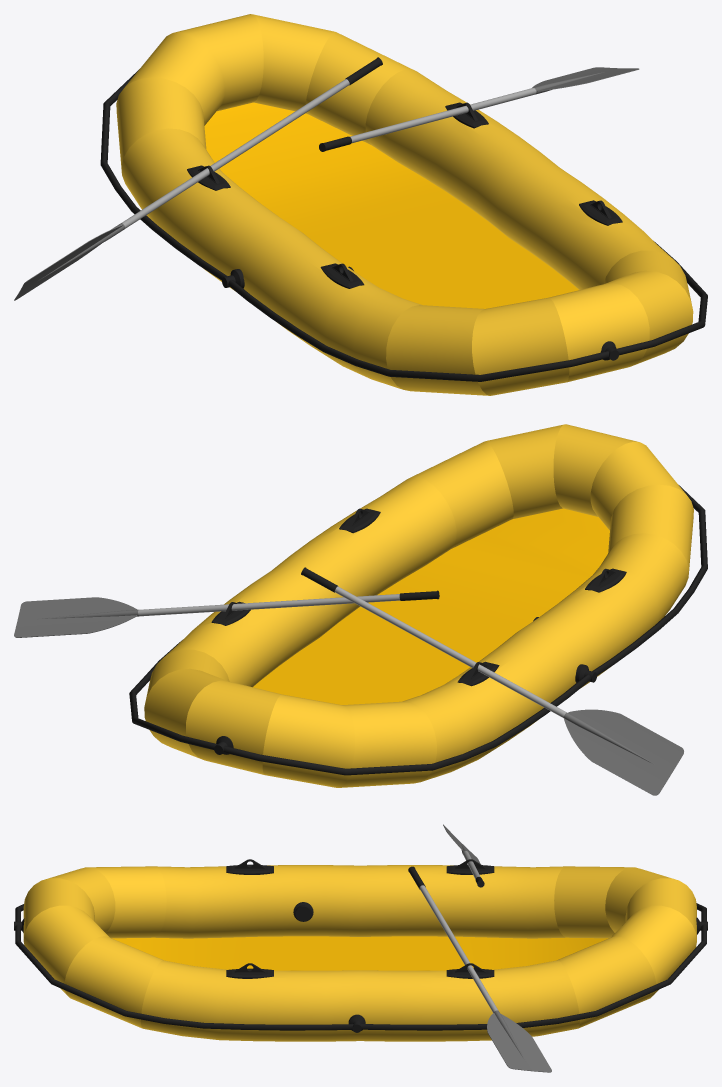
Rendered from rowboat.dae.
3 renders of one model, top to bottom at view 1: azimuth 30°, elevation 25°; view 2: azimuth 150°, elevation 25°; view 3: azimuth 270°, elevation 25°, orthographic. The views are drawn at different scales.
Parts seen in each view (by area): view 1: Group1, Group2, Group3, Group7, Group13, Group8, Group14; view 2: Group1, Group2, Group8, Group3, Group14, Group7, Group13; view 3: Group1, Group2, Group3, Group14, Group13.
Part boxes in pixels (left/top/right/bottom): Group1: left=116, top=14, right=693, bottom=395; Group2: left=204, top=102, right=578, bottom=308; Group3: left=100, top=69, right=707, bottom=381; Group7: left=122, top=57, right=382, bottom=228; Group13: left=319, top=88, right=536, bottom=151; Group8: left=14, top=223, right=125, bottom=300; Group14: left=532, top=67, right=639, bottom=94; Group1: left=144, top=424, right=693, bottom=787; Group2: left=253, top=508, right=609, bottom=704; Group8: left=563, top=709, right=683, bottom=795; Group3: left=129, top=485, right=707, bottom=775; Group14: left=14, top=597, right=138, bottom=637; Group7: left=301, top=567, right=566, bottom=717; Group13: left=138, top=590, right=439, bottom=616; Group1: left=23, top=859, right=696, bottom=1041; Group2: left=112, top=936, right=608, bottom=970; Group3: left=15, top=903, right=706, bottom=1030; Group14: left=487, top=1010, right=551, bottom=1072; Group13: left=408, top=866, right=498, bottom=1012.
Bounding box in the file's own units: 64.57 × 71.86 × 14.31.
